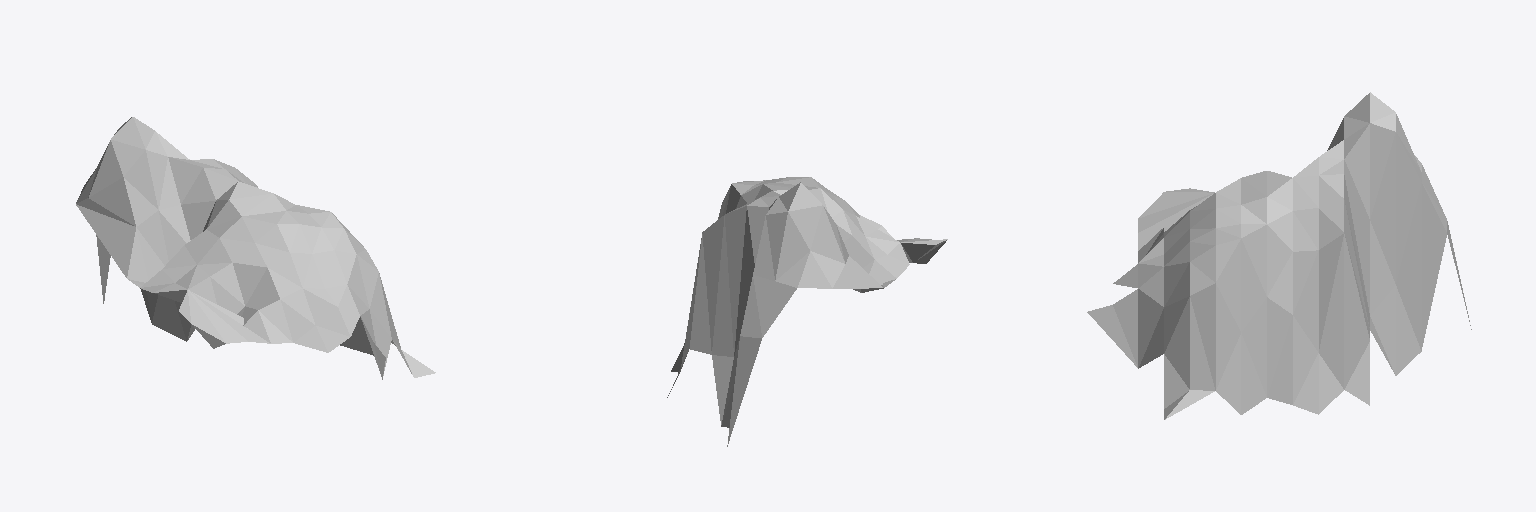
File: tree_57.obj
3 renders of one model, left to right at view 1: azimuth 30°, elevation 25°; view 2: azimuth 150°, elevation 25°; view 3: azimuth 270°, elevation 25°, orthographic.
Parts seen in each view (by area): view 1: tree_57.001; view 2: tree_57.001; view 3: tree_57.001.
Boxes of the visible parts, <box> form: tree_57.001: <box>76,117,435,379</box>; tree_57.001: <box>667,177,947,446</box>; tree_57.001: <box>1087,92,1471,419</box>.
Size of the model in its own units: 11 by 10.79 by 15.